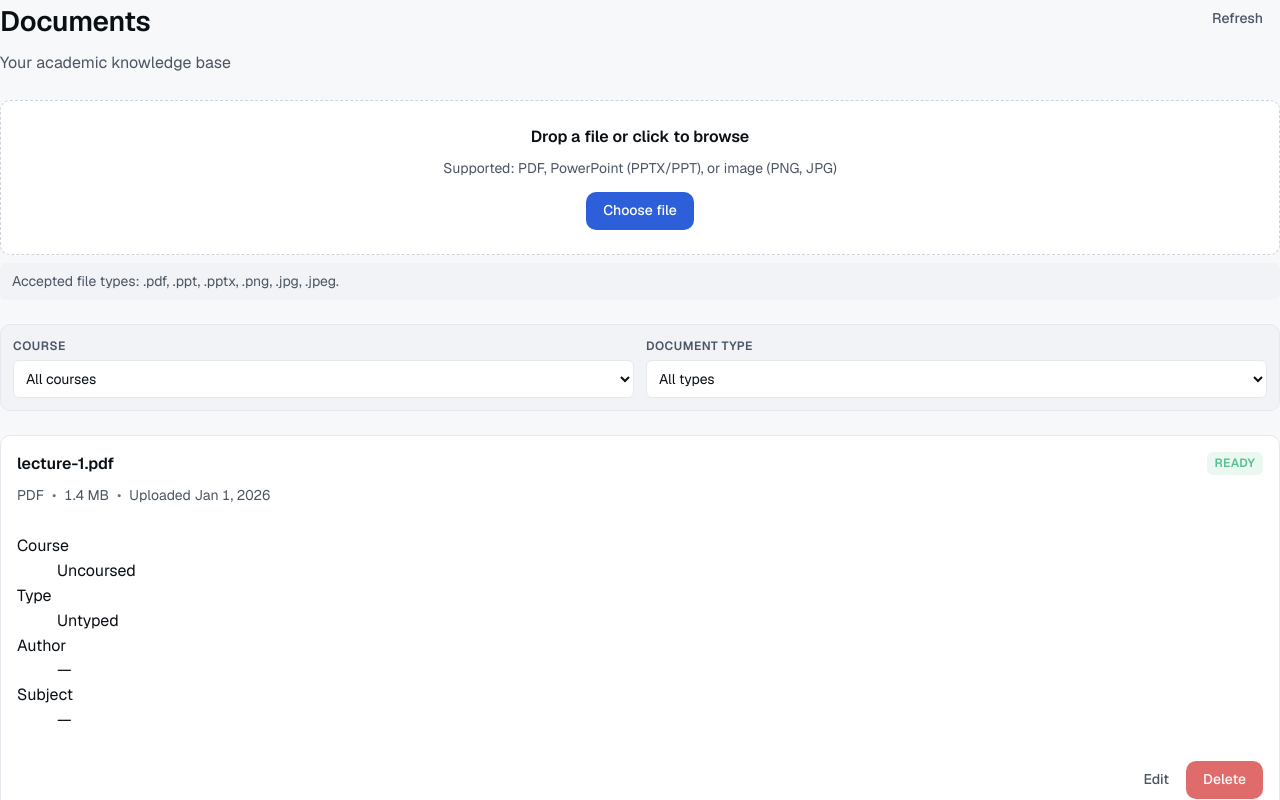
DocumentsPanel › delete › surfaces the backend error and keeps the dialog open when delete fails
Click the button with test id "document-card-delete" at (1224, 780), box x1=1186 y1=761 x2=1263 y2=799
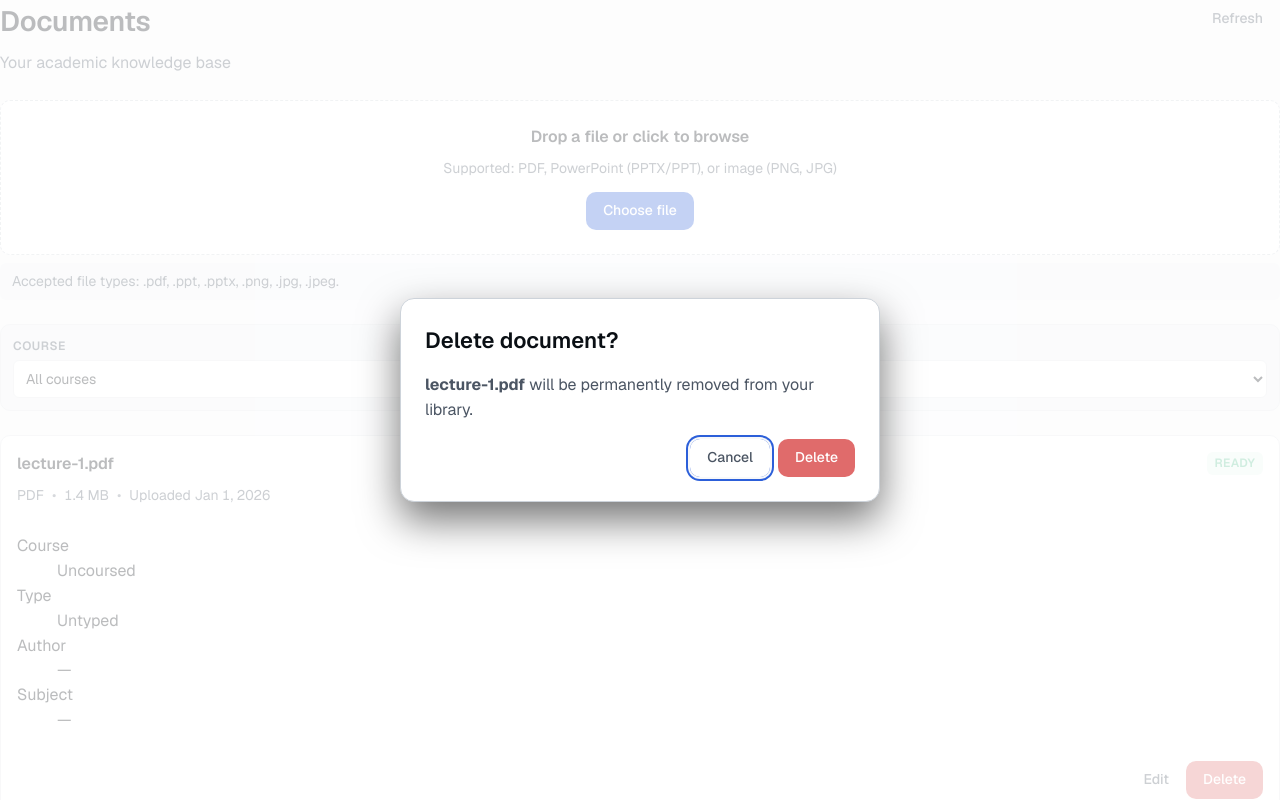
Click the button with test id "delete-confirm-confirm" at (816, 458), box x1=778 y1=439 x2=855 y2=477
(page scrolled)
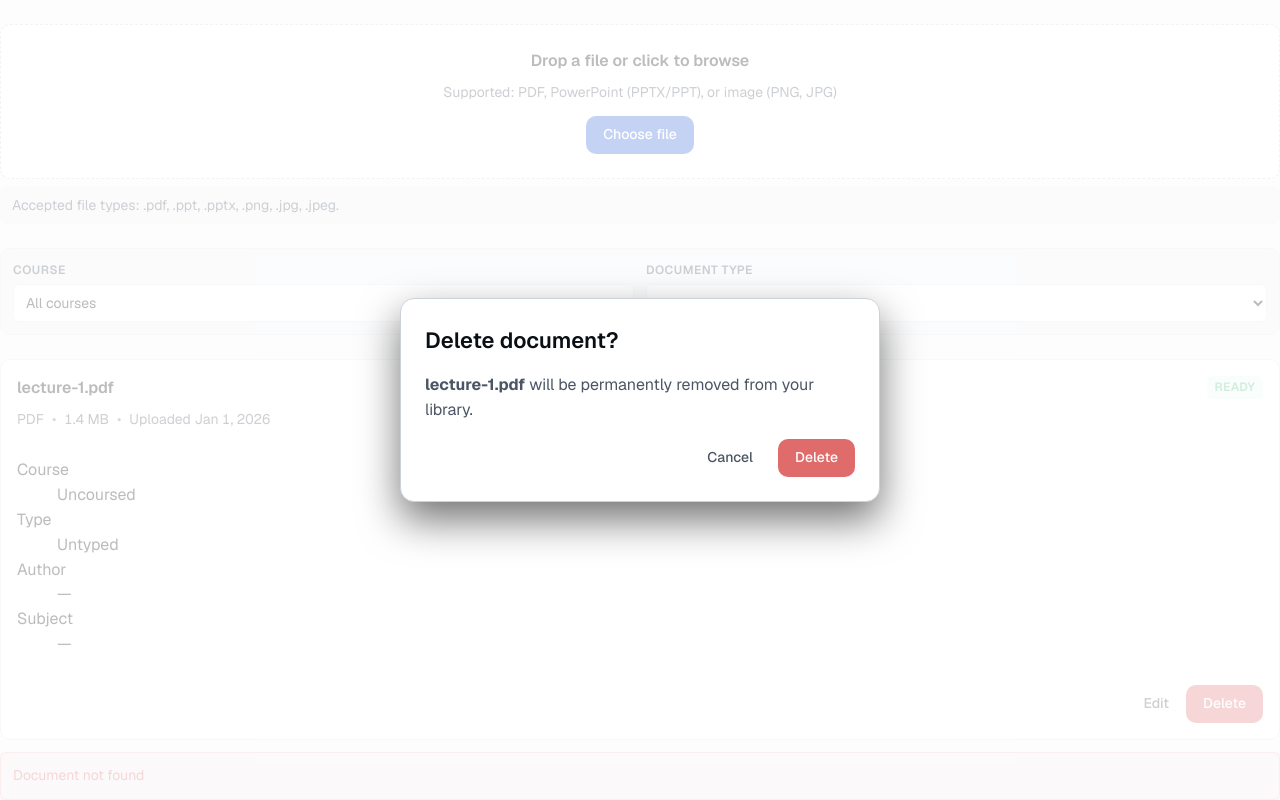
Expected: the element with test id "document-card" is shown, x1=0 y1=359 x2=1279 y2=740
Expected: the dialog with test id "delete-confirm-dialog" is shown, x1=400 y1=298 x2=880 y2=502
Expected: the message with test id "documents-delete-error" reads "Document not found", x1=13 y1=766 x2=144 y2=784
